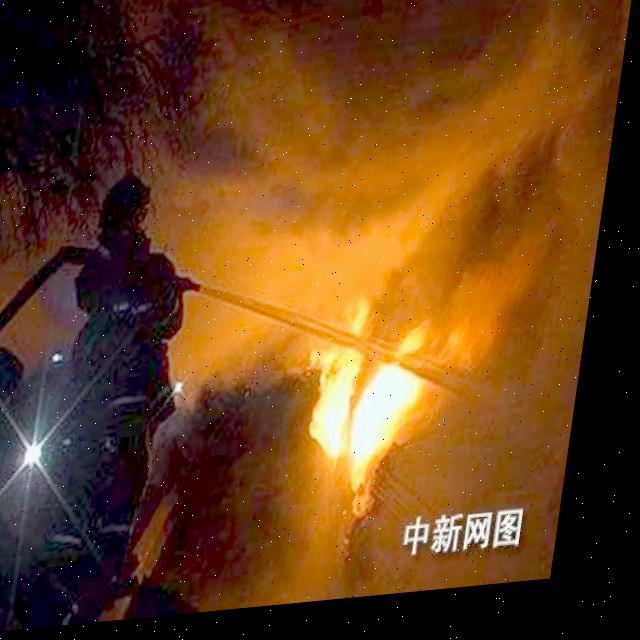Fire: (294, 300, 452, 502)
